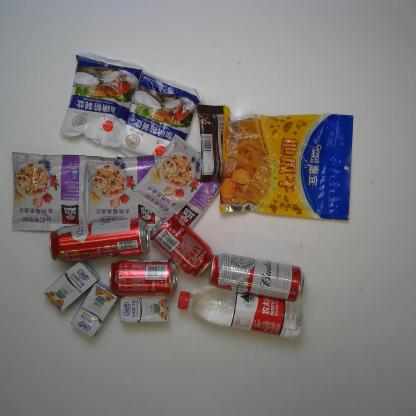Alcohol: (209, 251, 308, 300), (48, 217, 148, 263)
Chocolate: (195, 103, 228, 185)
Dried Fruit: (218, 105, 354, 222)
Drink: (177, 284, 305, 341), (148, 214, 214, 276), (108, 258, 178, 298)
Instant Drink: (130, 134, 226, 233), (79, 152, 165, 236), (7, 148, 89, 234)
Milk: (44, 260, 100, 312), (70, 283, 118, 339), (118, 294, 170, 325)
Seasoner: (60, 50, 142, 149), (117, 67, 200, 161)
